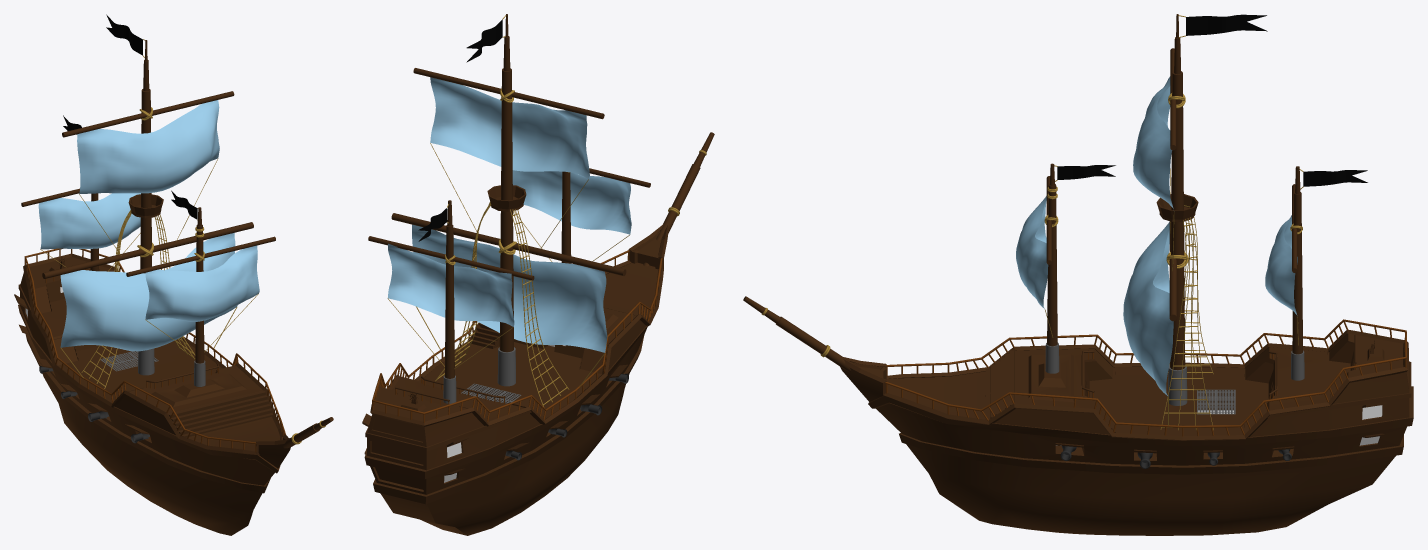
The model's file is ship.glb.
3 renders of one model, left to right at view 1: azimuth 30°, elevation 25°; view 2: azimuth 150°, elevation 25°; view 3: azimuth 270°, elevation 25°, orthographic. The views are drawn at different scales.
Parts seen in each view (by area): view 1: Ship_Body, Sails, Masts, Stairs, Trim, Railings.004, Railings.006, Flags, Crows_Nest, Plane, Ropes, Plane.002 (+2 smaller); view 2: Ship_Body, Sails, Masts, Trim, Railings.004, Plane, Railings.006, Flags, Stairs, Crows_Nest, Ropes, Plane.001 (+2 smaller); view 3: Ship_Body, Sails, Masts, Trim, Railings.004, Flags, Stairs, Railings.006, Plane.001, Plane.002, Plane.
Boxes of the visible parts, x1,y1,x2,y2 form: Ship_Body: [14, 257, 290, 535]; Sails: [38, 100, 259, 351]; Masts: [21, 40, 333, 448]; Stairs: [46, 289, 272, 437]; Trim: [23, 253, 289, 455]; Railings.004: [24, 248, 285, 444]; Railings.006: [24, 249, 284, 452]; Flags: [63, 14, 197, 219]; Crows_Nest: [128, 194, 163, 218]; Plane: [81, 210, 131, 388]; Ropes: [40, 158, 258, 378]; Plane.002: [100, 351, 158, 371]; Ship_Body: [362, 231, 663, 535]; Sails: [388, 77, 631, 352]; Masts: [368, 14, 714, 403]; Trim: [370, 224, 668, 426]; Railings.004: [372, 250, 662, 414]; Plane: [510, 209, 569, 406]; Railings.006: [372, 252, 662, 422]; Flags: [418, 19, 502, 241]; Stairs: [382, 305, 638, 408]; Crows_Nest: [487, 185, 526, 211]; Ropes: [387, 143, 629, 386]; Plane.001: [435, 201, 491, 381]; Ship_Body: [840, 333, 1413, 535]; Sails: [1016, 76, 1297, 395]; Masts: [743, 14, 1304, 405]; Trim: [843, 329, 1408, 440]; Railings.004: [885, 319, 1406, 427]; Flags: [1057, 14, 1367, 186]; Stairs: [985, 342, 1346, 433]; Railings.006: [886, 321, 1406, 436]; Plane.001: [1160, 217, 1213, 430]; Plane.002: [1197, 389, 1235, 414]; Plane: [1168, 205, 1213, 374].
Bounding box in the file's own units: 5.83 × 11.83 × 13.89.
